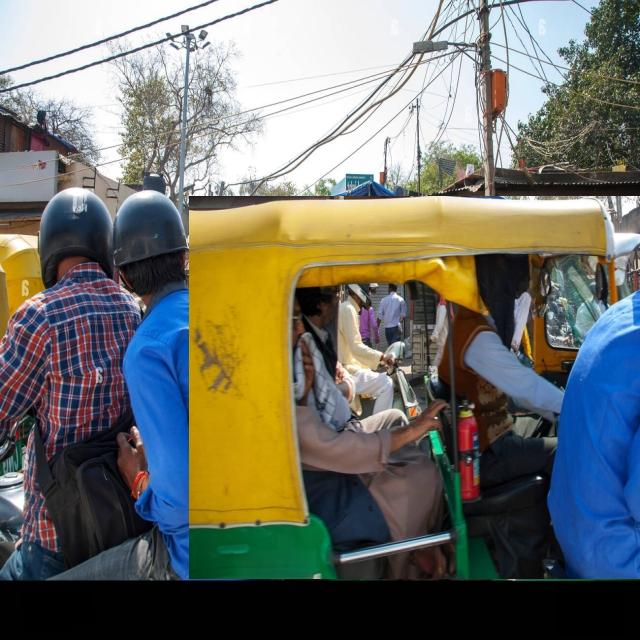autorickshaw: (189, 197, 640, 579)
